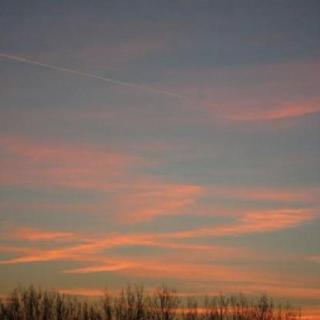Contrails: (0, 0, 320, 282)
